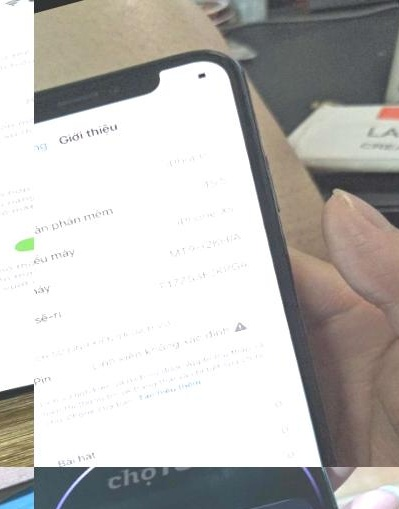physical_damage: (0, 467, 34, 491)
